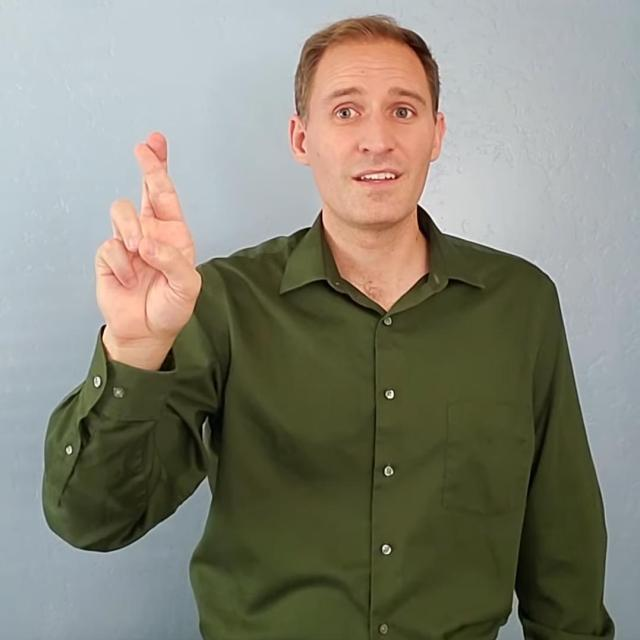R: (92, 128, 206, 341)
